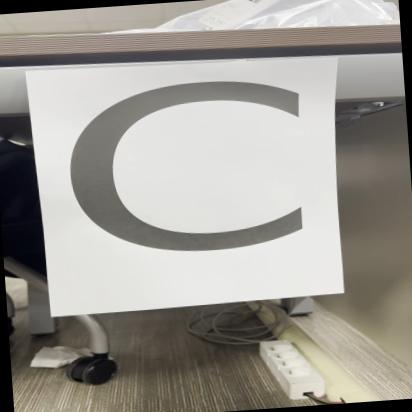seat: (40, 56, 346, 316)
